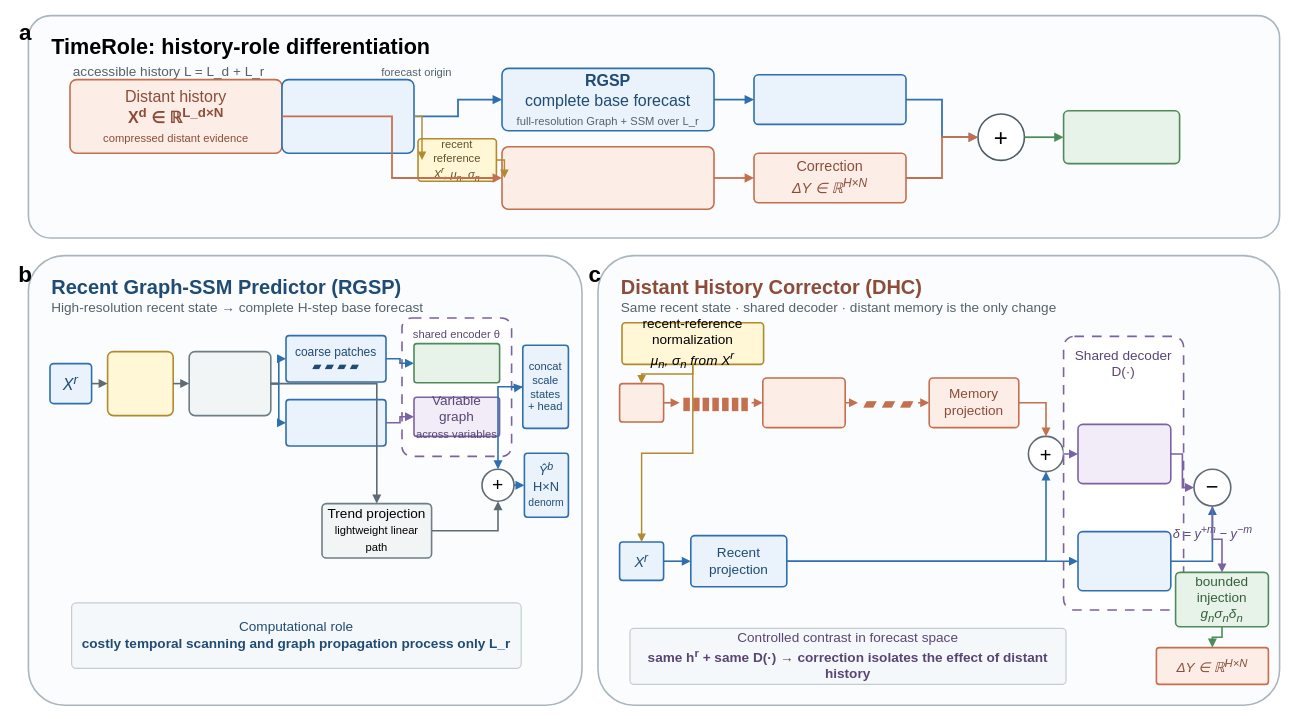
Some shapes in this 1294 by 719 pixel diagram are drawn without their labels. Here are the shapes that lost their labels. From the top down, the centre of each, then its label:
the point at 347,116: Recent window X r ∈ ℝ L_r×N high-resolution recent state
the point at 829,99: Base forecast Ŷ b ∈ ℝ H×N
the point at 1121,137: Forecast Ŷ = Ŷ b + ΔY
the point at 607,178: DHC conditional correction only pooled history · no graph/SSM scan
the point at 456,362: Bi-Mamba along patch order
the point at 140,383: Recent norm
the point at 229,383: Series decomposition
the point at 641,402: X d
the point at 804,402: AvgPool(r) L_d → K_m tokens
the point at 335,422: fine patches ▮ ▮ ▮ ▮ ▮ ▮ ▮
the point at 1124,453: D(h r + h m ) with distant memory
the point at 1124,560: D(h r ) without memory
